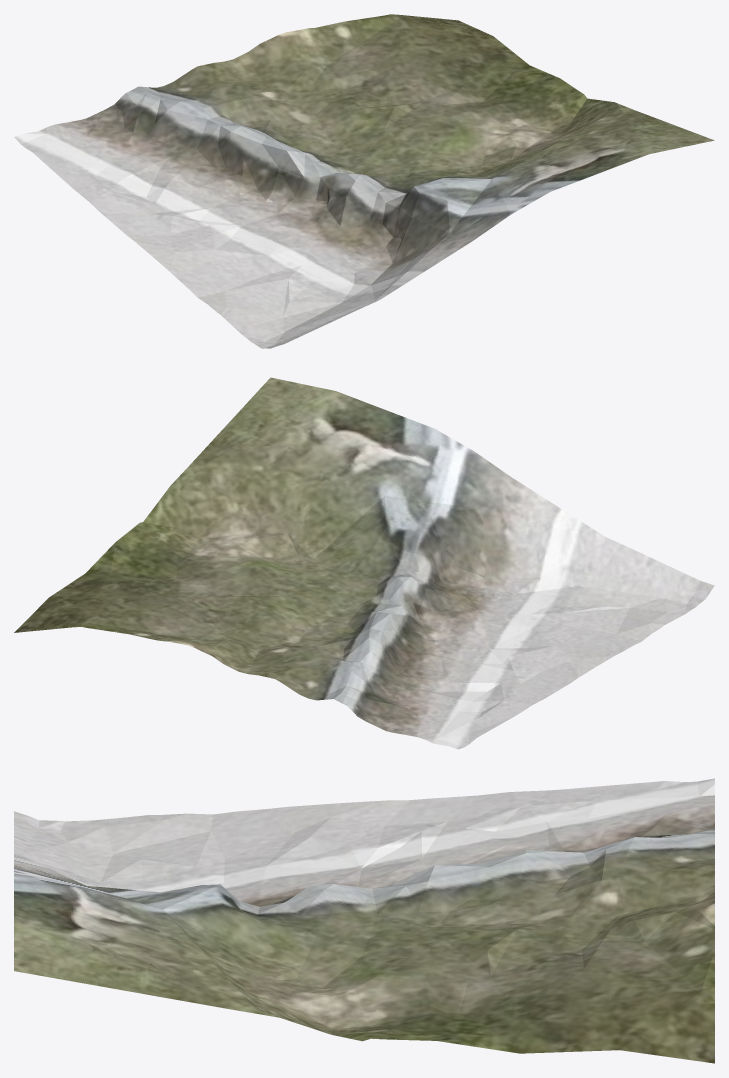
3 views of the same model, one above another, from view 1: azimuth 30°, elevation 25°; view 2: azimuth 150°, elevation 25°; view 3: azimuth 270°, elevation 25° (orthographic). The views are drawn at different scales.
Size of the model in its own units: 2.95 by 0.7005 by 2.95.
Materials: 2 (2 with a texture image).
